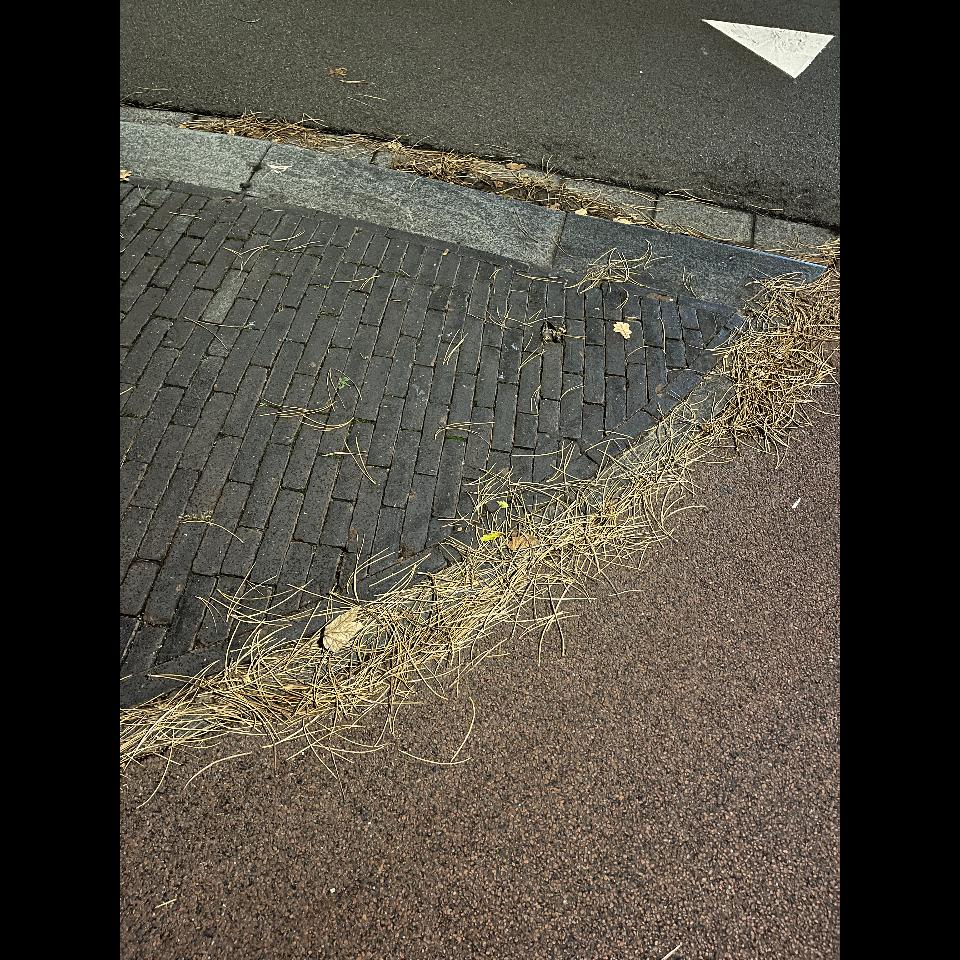weed: (357, 264, 407, 278), (339, 377, 349, 390)
